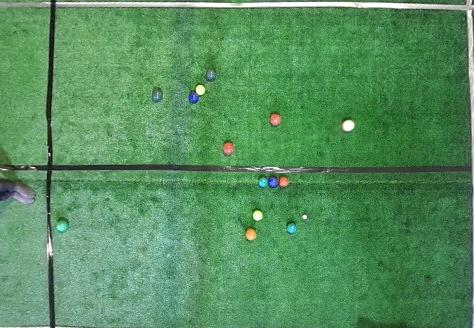blue: (189, 92, 199, 103), (268, 176, 278, 187)
green: (57, 218, 69, 232), (151, 89, 163, 102), (258, 176, 268, 187), (287, 223, 297, 234), (206, 70, 216, 81)
red: (269, 113, 282, 126), (342, 119, 355, 132), (245, 228, 256, 240), (223, 142, 234, 154), (279, 176, 289, 187)
vline: (1, 0, 55, 327), (463, 0, 473, 328)
white: (303, 215, 307, 219)
yellow: (252, 210, 263, 221), (195, 84, 205, 95)
